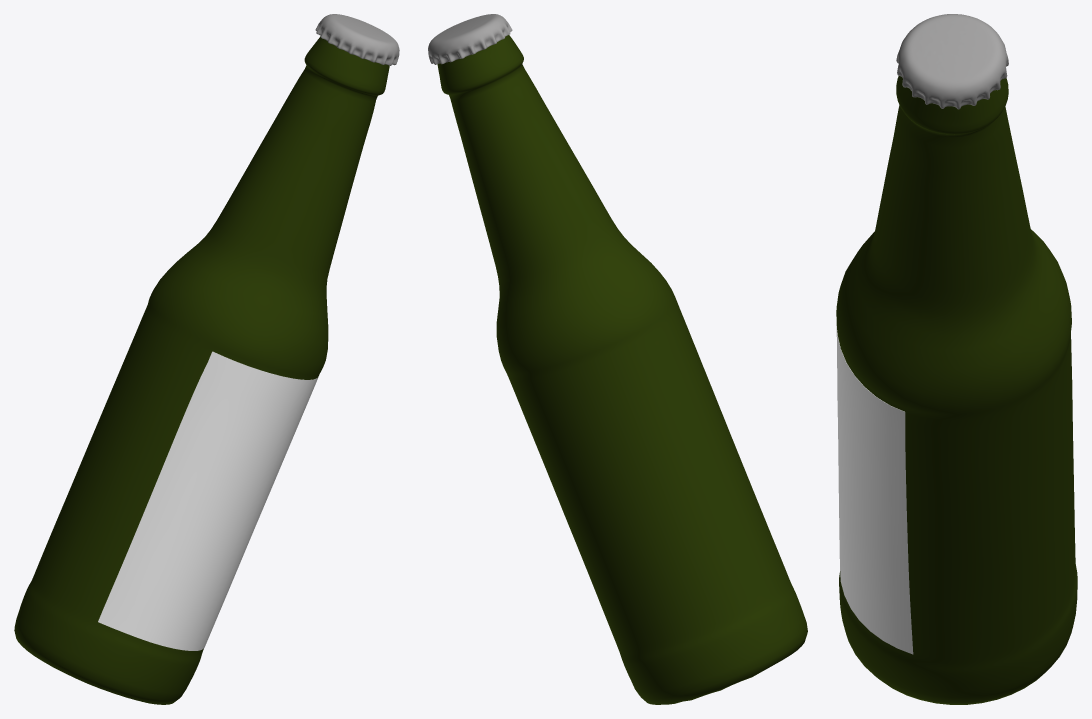
File: BEER_TG_007.glb
3 views of the same model, side by side, from view 1: azimuth 30°, elevation 25°; view 2: azimuth 150°, elevation 25°; view 3: azimuth 270°, elevation 25° (orthographic). The views are drawn at different scales.
Visible parts, largest first — view 1: Liquid__Copy_; view 2: Liquid__Copy_; view 3: Liquid__Copy_.
Boxes of the visible parts, x1=… form: Liquid__Copy_: x1=14, y1=14, x2=399, y2=704; Liquid__Copy_: x1=428, y1=14, x2=807, y2=704; Liquid__Copy_: x1=836, y1=14, x2=1077, y2=704.
Size of the model in its own units: 115 by 189 by 51.82.
